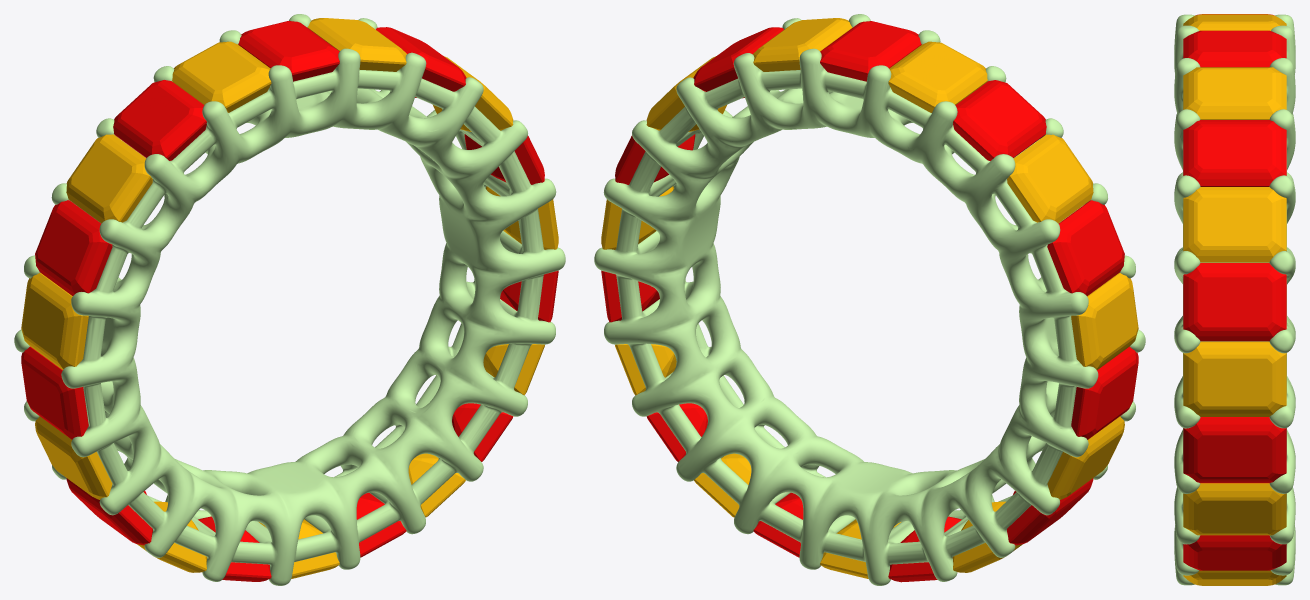
File: TCC-RN-CR-32204-Emerald-Eternity-30.glb
3 views of the same model, side by side, from view 1: azimuth 30°, elevation 25°; view 2: azimuth 150°, elevation 25°; view 3: azimuth 270°, elevation 25° (orthographic).
Visible parts, largest first — view 1: Metal03, Diamond Band01 (×11), Diamond Band02 (×11); view 2: Metal03, Diamond Band01 (×11), Diamond Band02 (×11); view 3: Diamond Band02 (×6), Diamond Band01 (×5), Metal03.
Part boxes in pixels (x1,y1,x2,y2): Metal03: [14, 14, 565, 585]; Diamond Band01 (×11): [21, 21, 558, 581]; Diamond Band02 (×11): [21, 18, 558, 578]; Metal03: [594, 14, 1145, 585]; Diamond Band01 (×11): [601, 21, 1138, 582]; Diamond Band02 (×11): [601, 18, 1138, 578]; Diamond Band02 (×6): [1183, 14, 1286, 585]; Diamond Band01 (×5): [1183, 30, 1286, 570]; Metal03: [1174, 14, 1295, 585].
Bounding box in the file's own units: 25.22 × 25.16 × 5.36.
